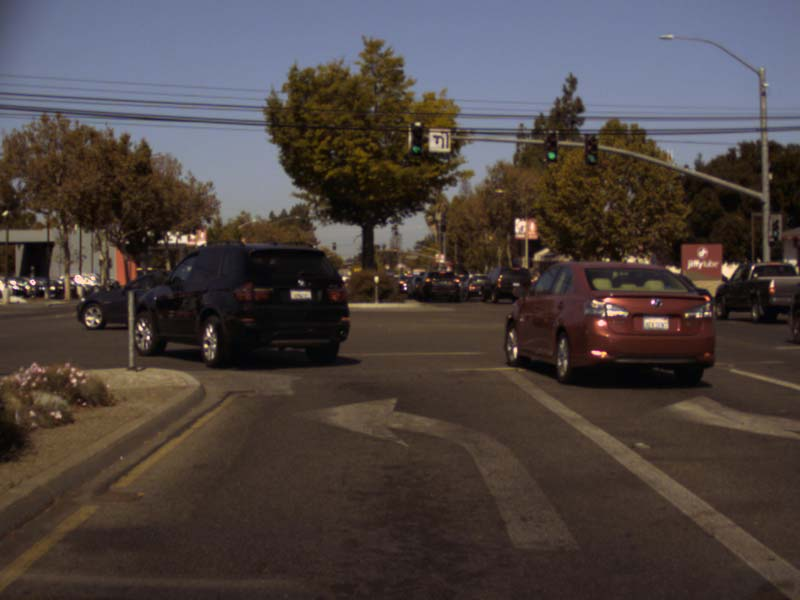Green: (542, 129, 559, 162), (409, 122, 423, 157), (584, 132, 597, 164), (770, 218, 777, 240)
